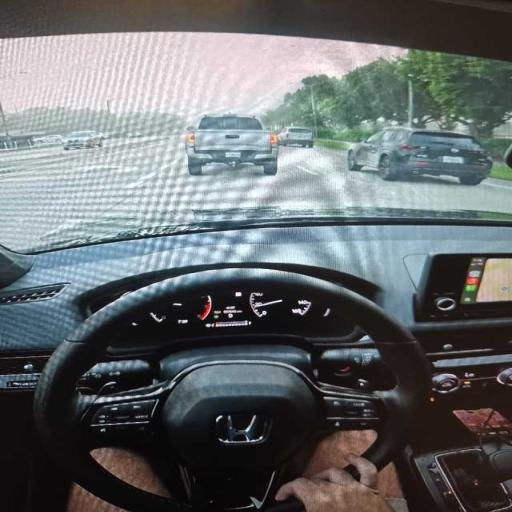car: (0, 0, 511, 511), (347, 127, 492, 185), (64, 131, 102, 150), (278, 127, 314, 147), (35, 136, 63, 144), (128, 132, 142, 138)
lane: (0, 135, 511, 249)
person: (276, 431, 407, 511), (276, 453, 407, 511)
truck: (186, 115, 278, 175)
